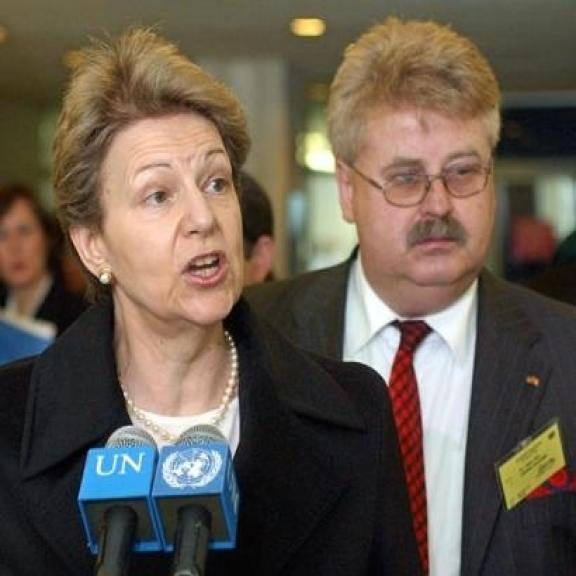face: (56, 101, 248, 336), (338, 93, 500, 301)
